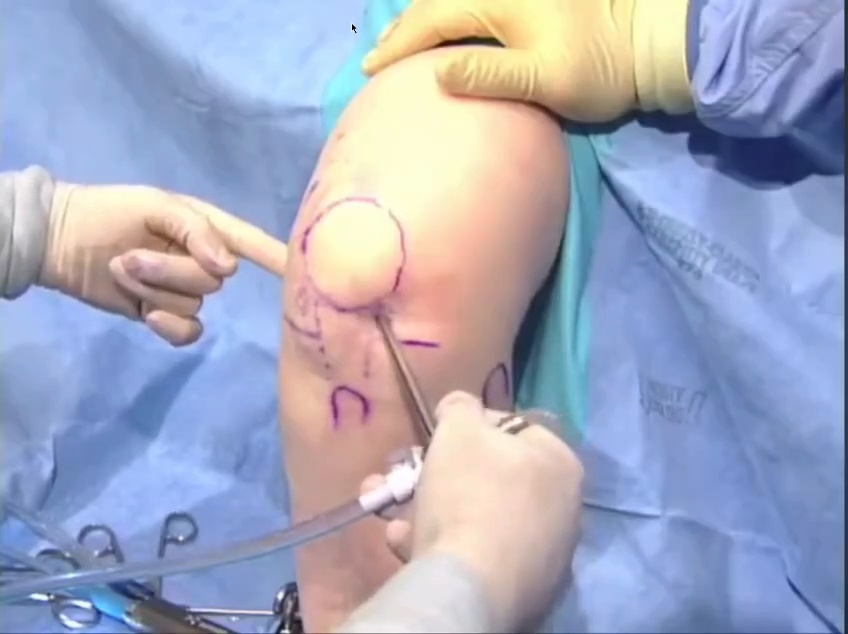arthroscope: (424, 30, 848, 634), (25, 128, 402, 494)
probe: (583, 0, 848, 148), (594, 157, 724, 284), (23, 312, 72, 392)
